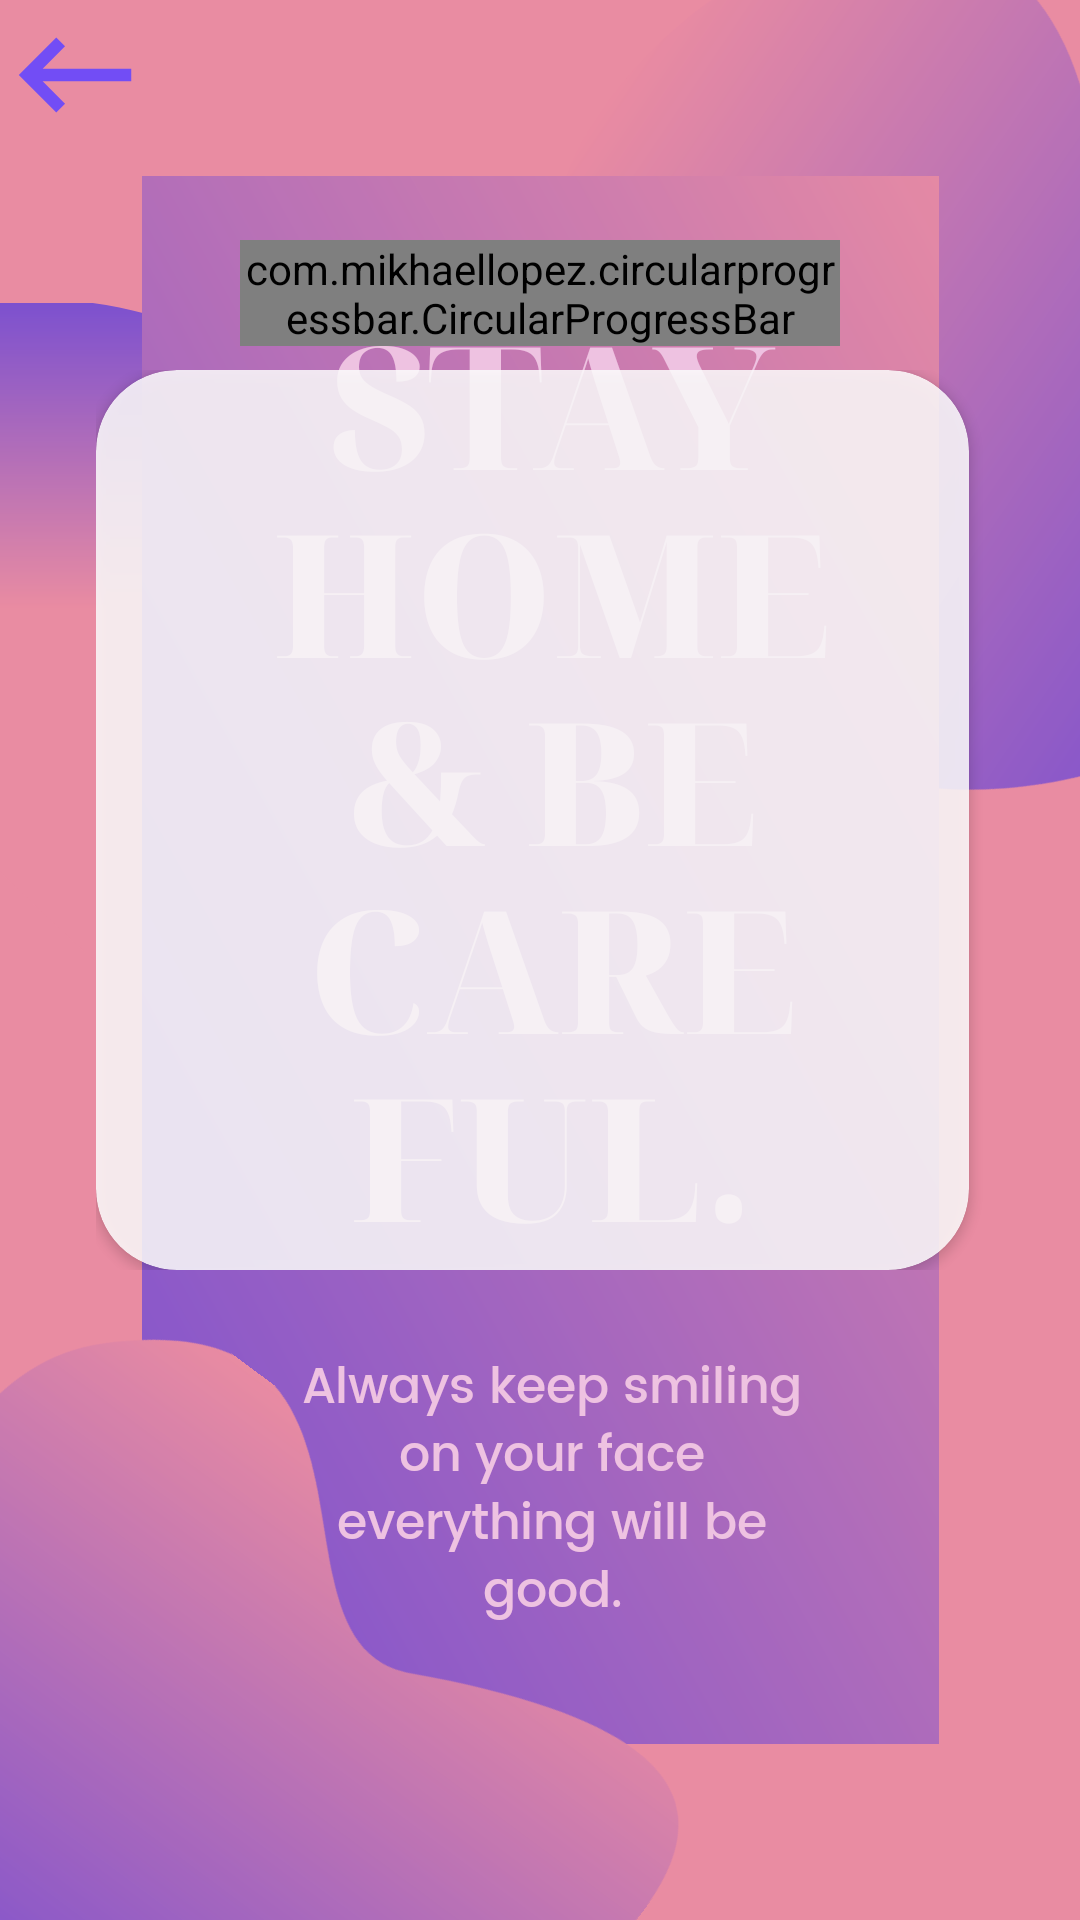

Named icons in this screenshot (1080px×1920px) and their bounding boxes, bbox(x1, y1, x2, y2):
keyboard backspace: bbox(19, 37, 132, 113)
